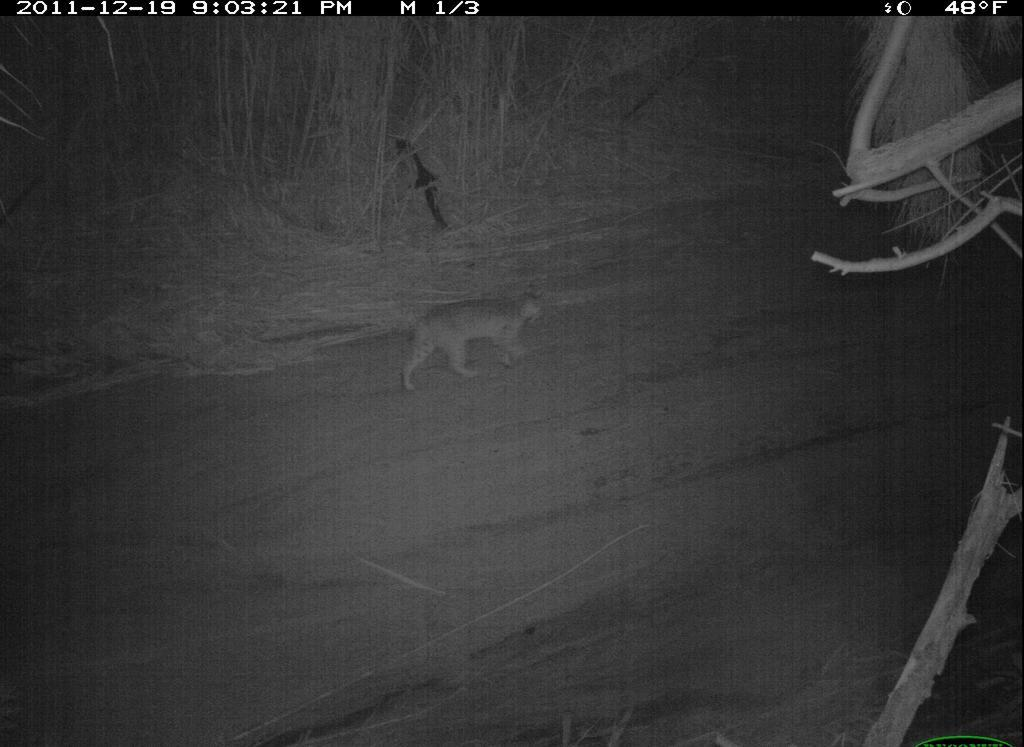bobcat: (368, 262, 552, 433)
